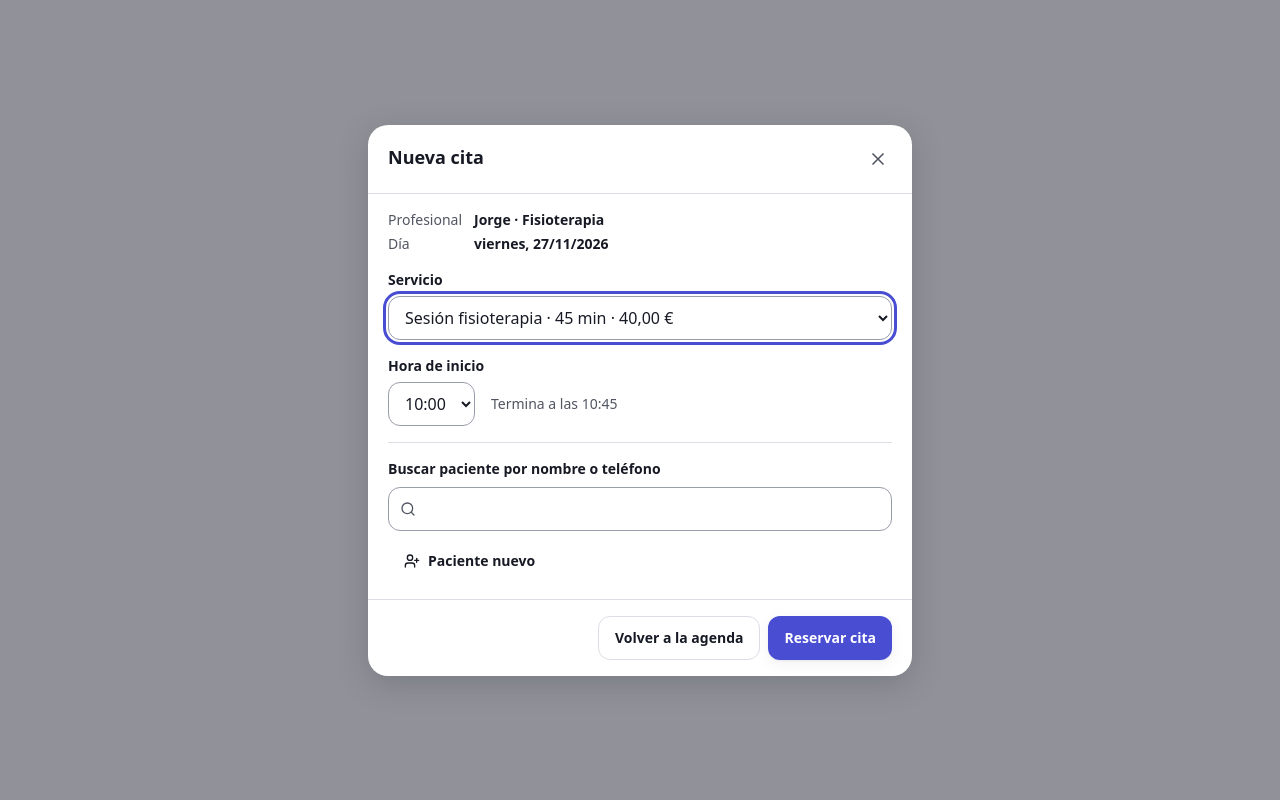
Test: DialogoAltaCita › [001][FR-009] la hora avanza de 5 en 5 min dentro del horario y «Termina a las 10:45» se calcula y no es editable
The width and height of the screenshot is (1280, 800).
Expected: the text "Termina a las 10:45" is shown, [491,394,617,414]
Step 1. Select "Primera visita fisioterapia · 60 min · 50,00 €" in the dropdown labelled "Servicio" → (640, 318), box [388,296,892,340]
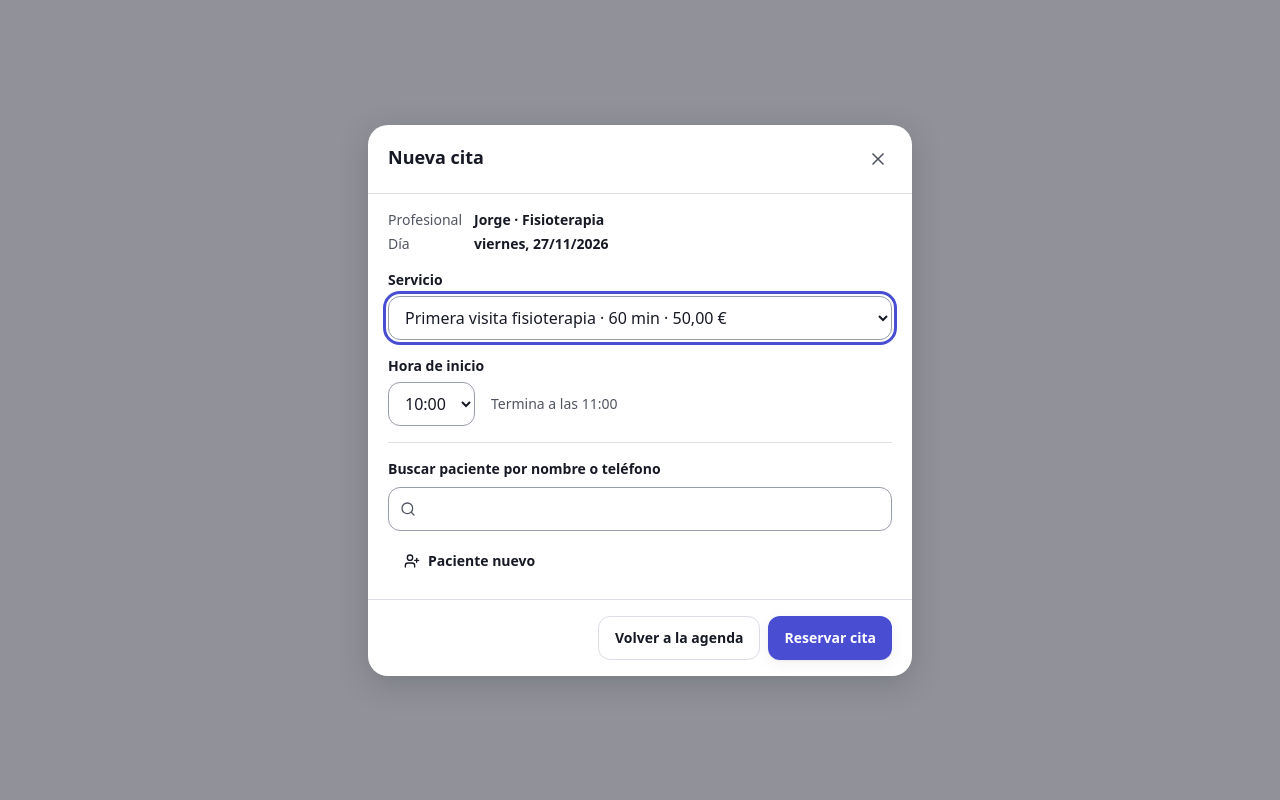
Now the text "Termina a las 11:00" is shown, box [491,394,617,414]
Step 2. Select "12:35" in the dropdown labelled "Hora de inicio" → (432, 404), box [388,382,475,426]
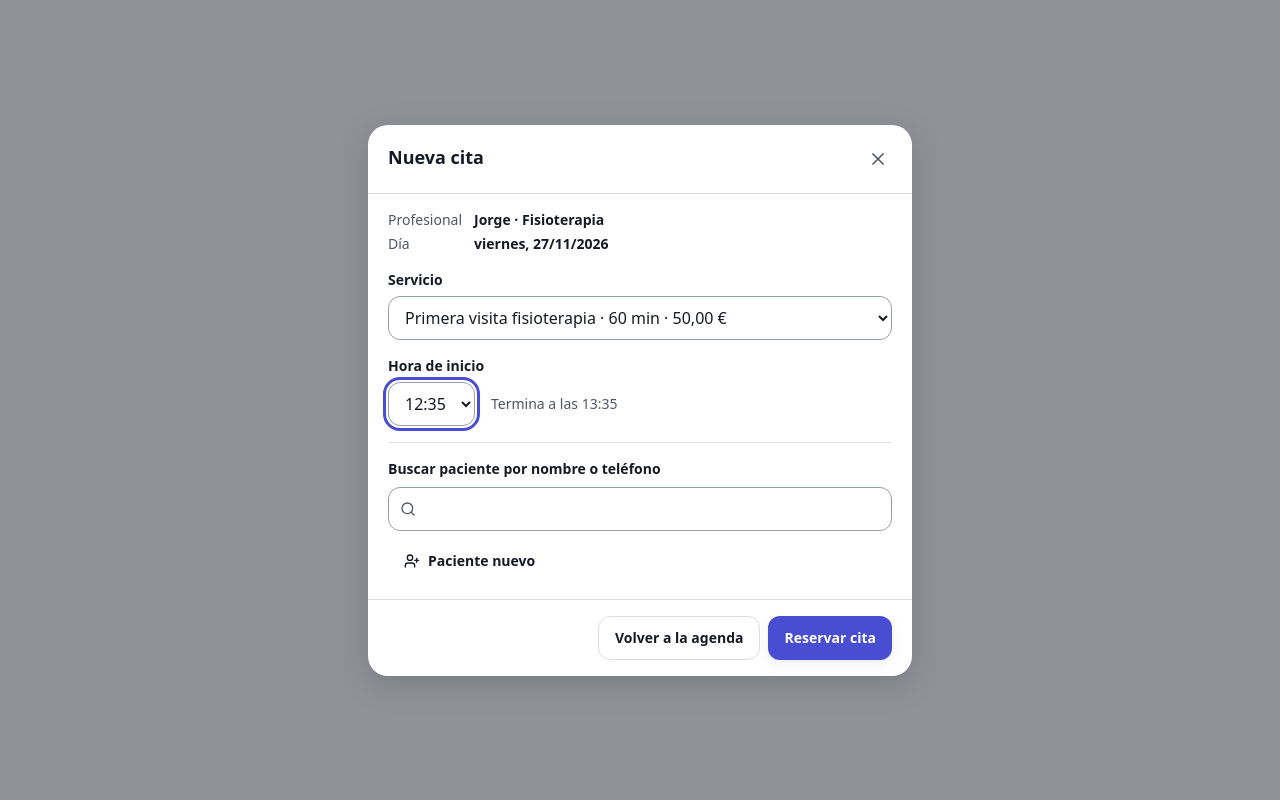
Now the text "Termina a las 13:35" is shown, box [491,394,617,414]
